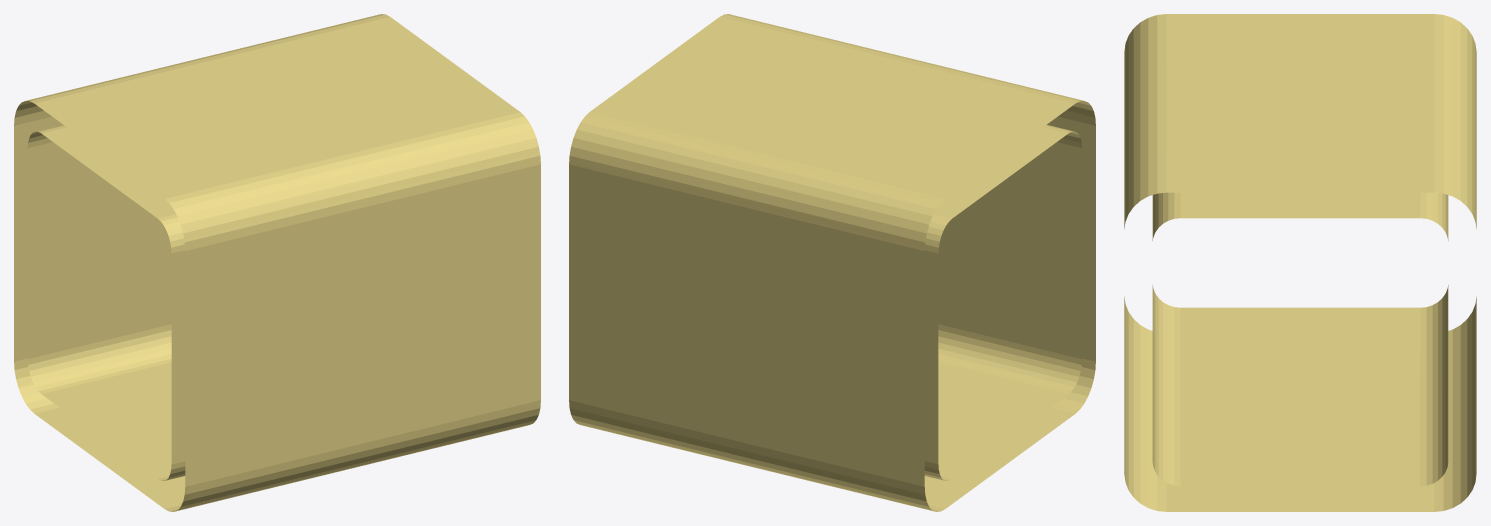
Rendered from RailLeft_06.obj.
The picture shows the model from 3 angles, left to right: view 1: azimuth 30°, elevation 25°; view 2: azimuth 150°, elevation 25°; view 3: azimuth 270°, elevation 25°; orthographic projection. The views are drawn at different scales.
Visible parts, largest first — view 1: RailLeft_06_14; view 2: RailLeft_06_14; view 3: RailLeft_06_14.
Boxes of the visible parts, left/top/right/bottom form: RailLeft_06_14: left=14, top=14, right=540, bottom=511; RailLeft_06_14: left=569, top=14, right=1095, bottom=511; RailLeft_06_14: left=1124, top=14, right=1476, bottom=511.
Bounding box in the file's own units: 0.03 × 0.025 × 0.025.
